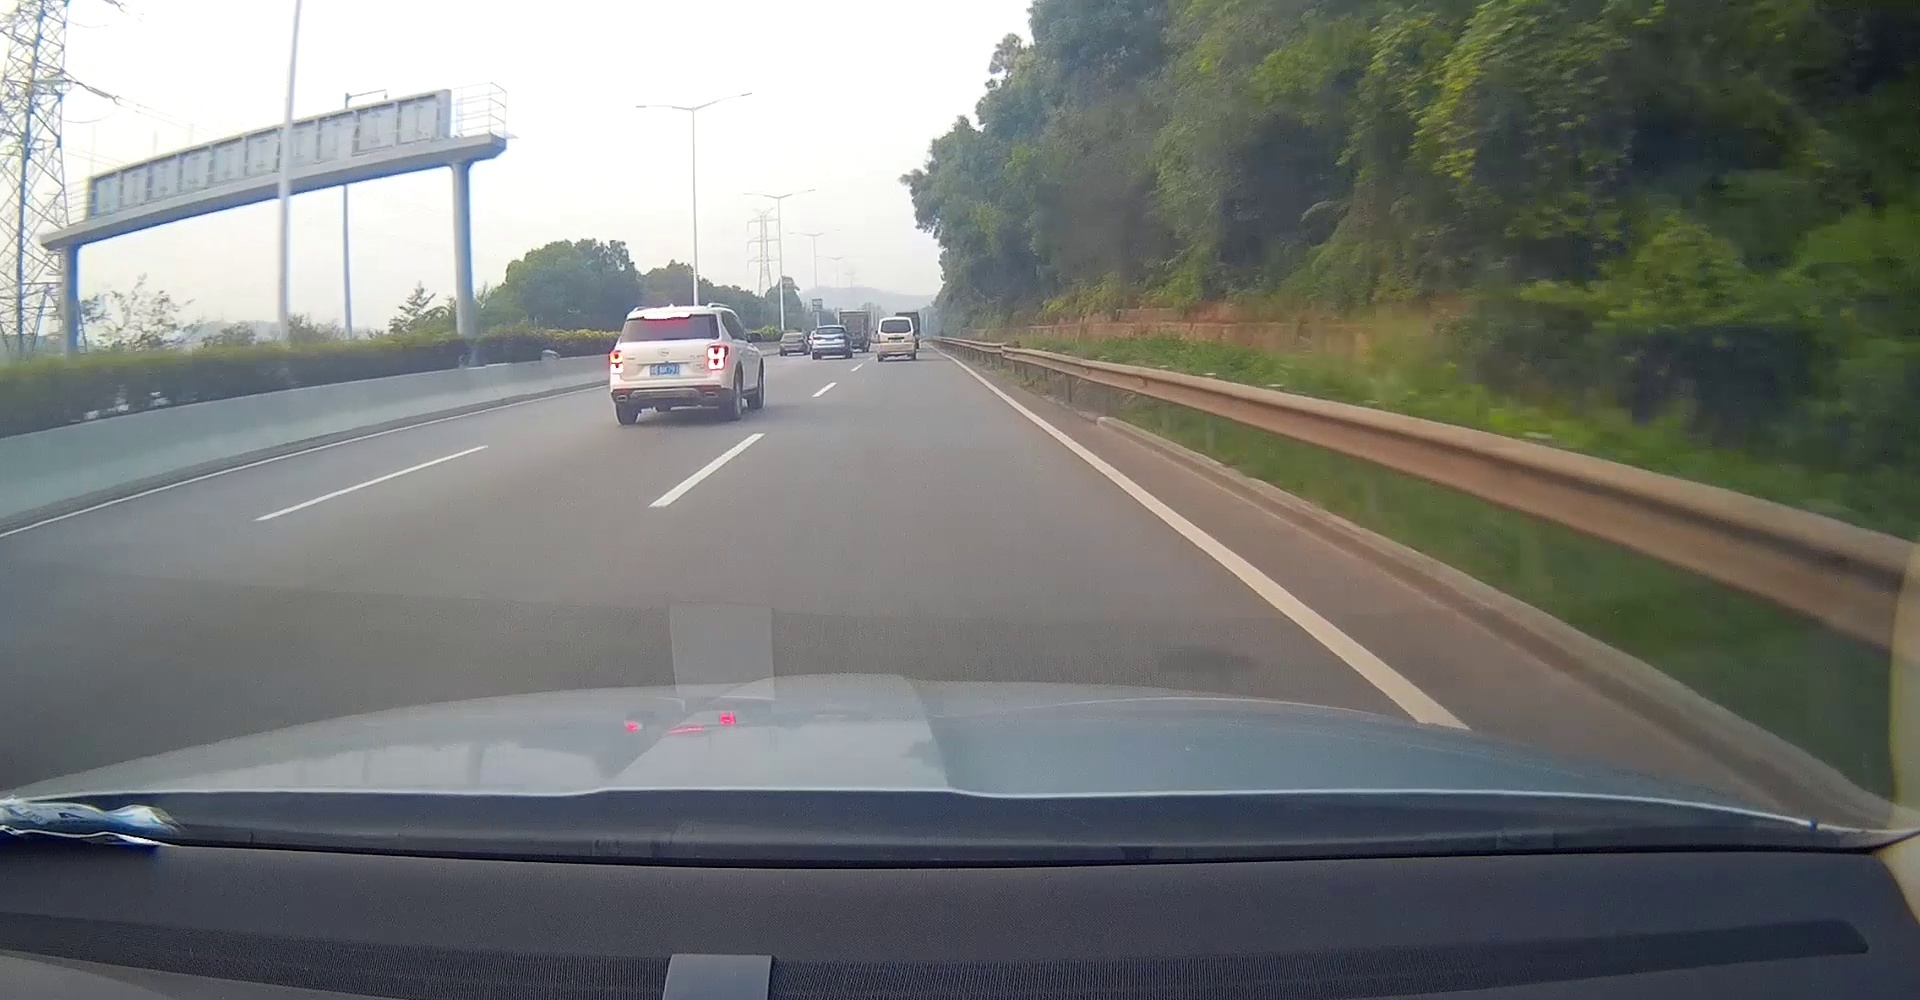L_light: (610, 352, 623, 373), (811, 336, 822, 340), (877, 334, 880, 343)
R_light: (709, 344, 728, 371), (910, 332, 916, 341), (836, 335, 844, 339)
T_light: (644, 313, 691, 319), (891, 320, 899, 322), (825, 327, 833, 329)
day-brake: (610, 306, 730, 425)
day-no: (876, 317, 916, 362), (811, 325, 847, 359)
